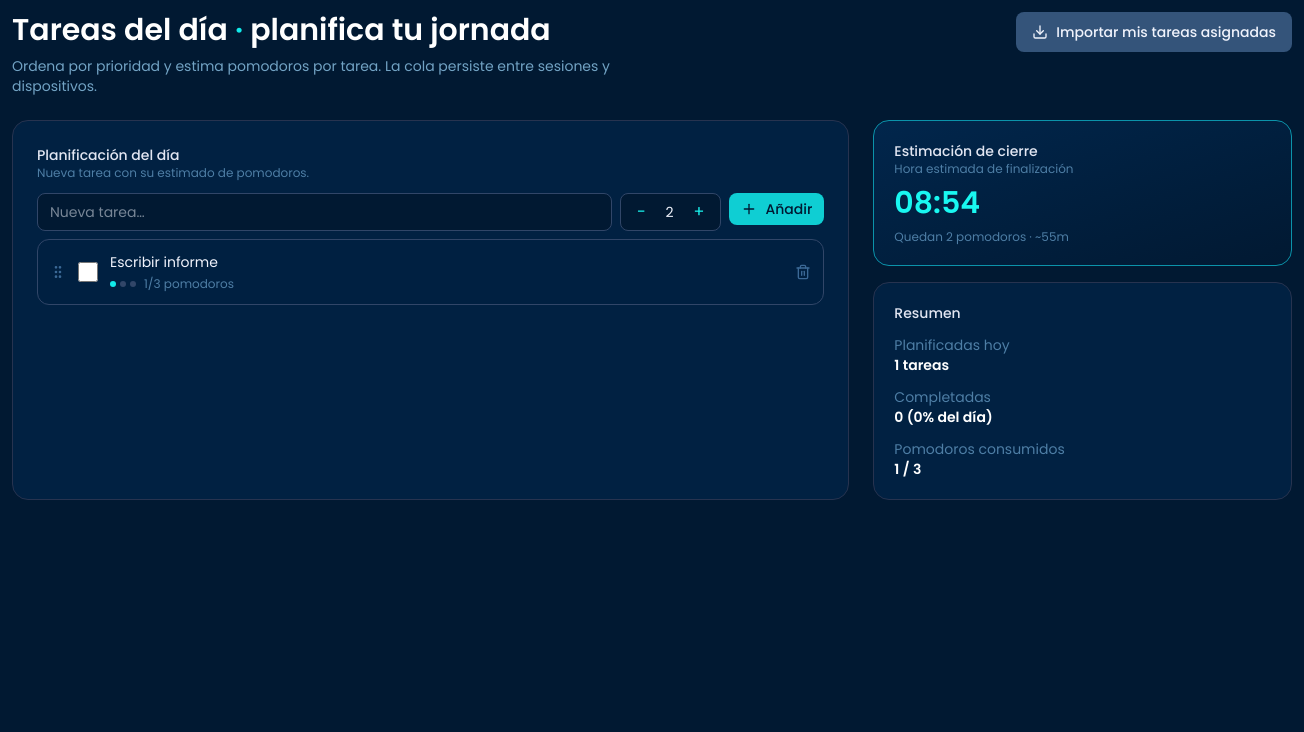
Test: TasksPage › "Importar mis tareas asignadas" añade las tareas importadas a la cola
Expected: the text "Escribir informe" is shown, [110,252,218,272]
Click the button with test id "import-button" at (1154, 32), box [1016,12,1292,52]
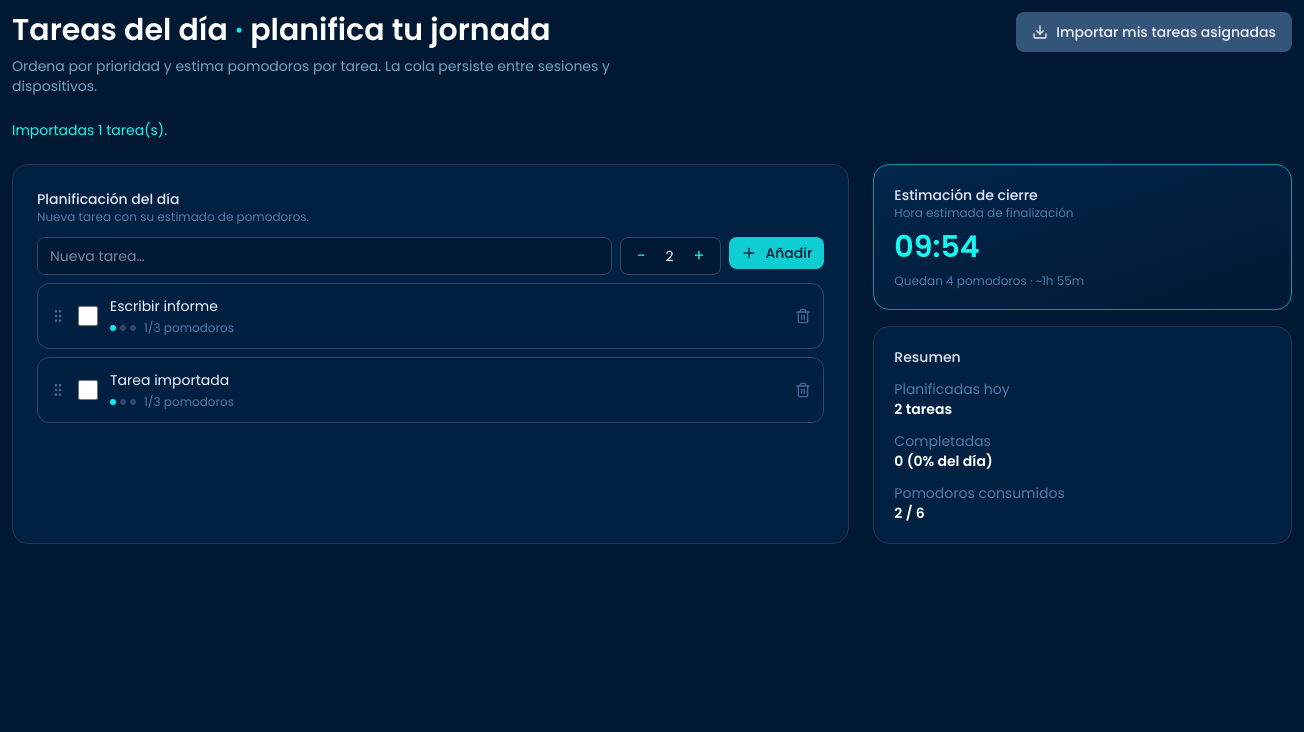
Now the text "Tarea importada" is shown, box [110,370,229,390]
Now the text "Importadas 1 tarea(s)." is shown, box [12,120,167,140]
